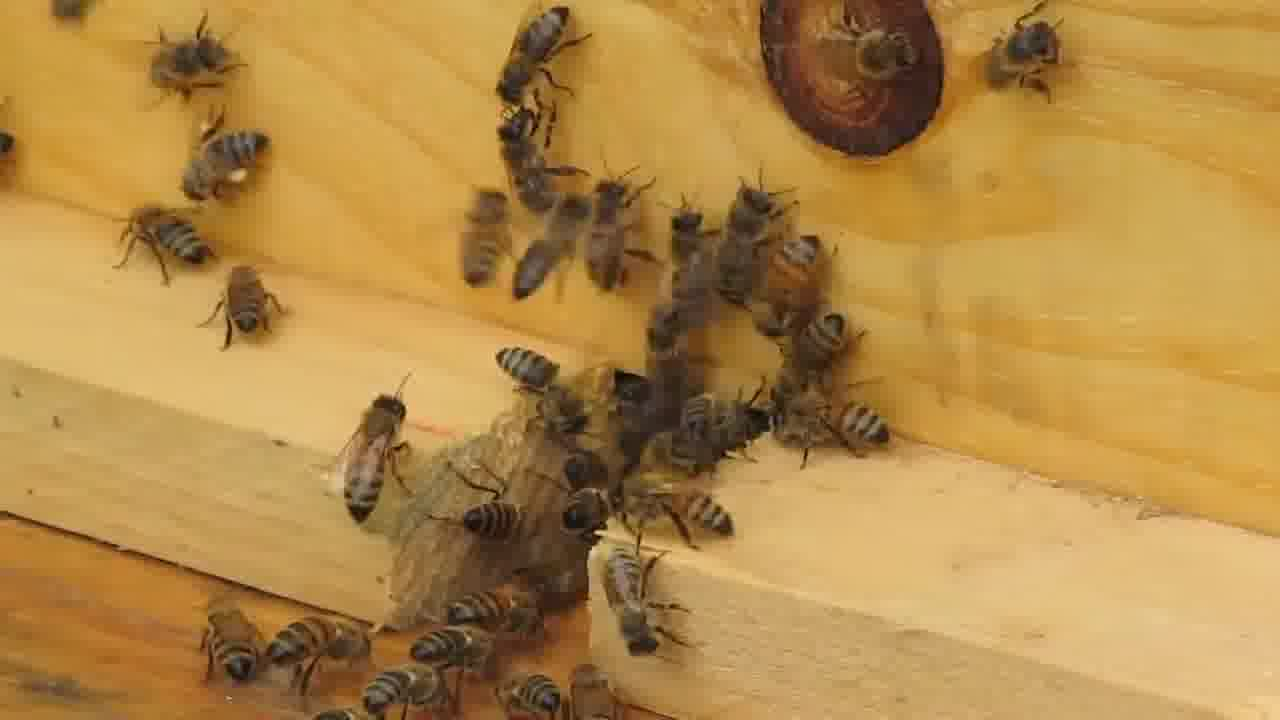pollen: (178, 114, 268, 205)
